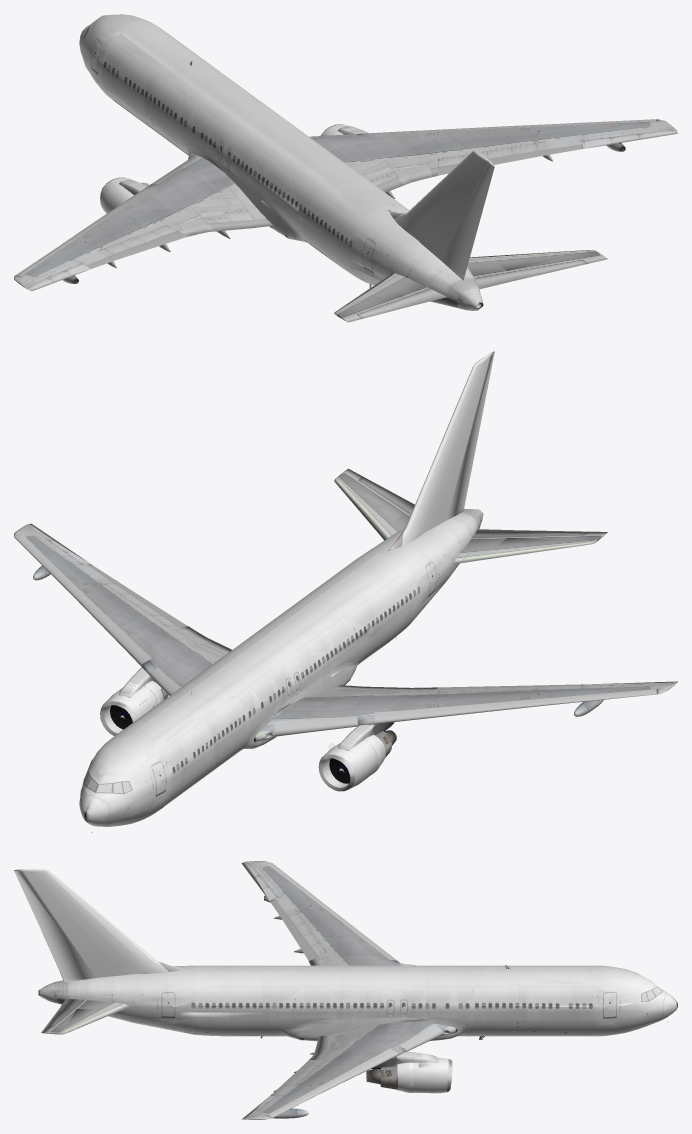
3 renders of one model, top to bottom at view 1: azimuth 30°, elevation 25°; view 2: azimuth 150°, elevation 25°; view 3: azimuth 270°, elevation 25°, orthographic. The views are drawn at different scales.
Parts seen in each view (by area): view 1: Fuselage, RWing_002, LWing_001, VStab_001, VRudder, RHStab, LHStab_001, RHelev, LHStab, flapl, LFflapwing2, RFflapwing2 (+6 smaller); view 2: Fuselage, RWing_002, LWing_001, VStab_001, LFflapwing2, LHStab_001, RHStab, RFflapwing2, VRudder, LCapaturbofan_004, LFflapwing1, RCapaturbofan_003 (+1 smaller); view 3: Fuselage, VStab_001, RWing_002, LWing_001, VRudder, RHStab, RFflapwing2, RCapaturbofan_003, LFflapwing2, RCapaturbofan_001, flap_ext_L, RSuportTurbofan (+3 smaller).
Boxes of the visible parts, x1,y1,x2,y2 form: Fuselage: [79, 14, 483, 310]; RWing_002: [311, 119, 677, 178]; LWing_001: [14, 153, 272, 291]; VStab_001: [388, 150, 489, 280]; VRudder: [442, 163, 494, 276]; RHStab: [467, 250, 607, 276]; LHStab_001: [334, 273, 427, 322]; RHelev: [474, 259, 587, 288]; LHStab: [358, 287, 446, 318]; flapl: [195, 213, 269, 231]; LFflapwing2: [15, 188, 151, 275]; RFflapwing2: [374, 119, 656, 134]; Fuselage: [79, 509, 483, 826]; RWing_002: [14, 523, 223, 688]; LWing_001: [254, 681, 677, 741]; VStab_001: [388, 353, 490, 550]; LFflapwing2: [374, 689, 656, 724]; LHStab_001: [453, 531, 607, 564]; RHStab: [334, 468, 409, 540]; RFflapwing2: [14, 534, 151, 666]; VRudder: [447, 352, 494, 517]; LCapaturbofan_004: [318, 742, 374, 791]; LFflapwing1: [273, 716, 357, 736]; RCapaturbofan_003: [100, 688, 154, 735]; Fuselage: [38, 965, 677, 1041]; VStab_001: [22, 869, 185, 981]; RWing_002: [241, 1022, 457, 1119]; LWing_001: [241, 861, 402, 965]; VRudder: [14, 871, 95, 977]; RHStab: [41, 1000, 132, 1034]; RFflapwing2: [267, 1048, 398, 1117]; RCapaturbofan_003: [418, 1058, 452, 1093]; LFflapwing2: [267, 863, 396, 960]; RCapaturbofan_001: [397, 1062, 418, 1092]; flap_ext_L: [270, 900, 317, 960]; RSuportTurbofan: [373, 1051, 438, 1068].
Size of what is drawn, in the model's own units: 46.31 by 15.01 by 50.37.
Materials: 24 (18 with a texture image).
